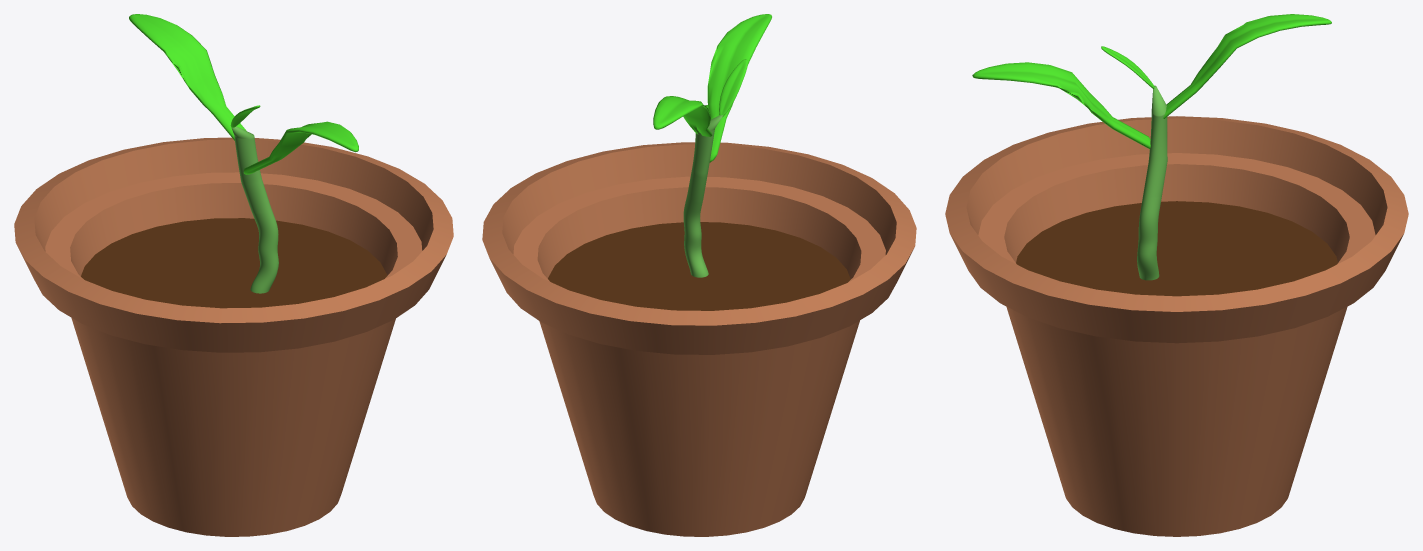
The model's file is youngPlant.fbx.
The picture shows the model from 3 angles, left to right: view 1: azimuth 30°, elevation 25°; view 2: azimuth 150°, elevation 25°; view 3: azimuth 270°, elevation 25°; orthographic projection. The views are drawn at different scales.
Parts seen in each view (by area): view 1: Plant Pot, Plane, Cylinder.001, Plane.001; view 2: Plant Pot, Plane.001, Cylinder.001, Plane, Plane.002; view 3: Plant Pot, Cylinder.001, Plane.001, Plane.
Boxes of the visible parts, x1,y1,x2,y2 form: Plant Pot: (14, 137, 453, 536); Plane: (129, 14, 246, 140); Cylinder.001: (230, 125, 278, 293); Plane.001: (243, 121, 358, 174); Plant Pot: (482, 142, 916, 536); Plane.001: (707, 14, 771, 162); Cylinder.001: (683, 115, 723, 277); Plane: (653, 96, 712, 136); Plane.002: (719, 59, 747, 116); Plant Pot: (945, 116, 1408, 536); Cylinder.001: (1137, 85, 1167, 280); Plane.001: (972, 62, 1150, 149); Plane: (1163, 14, 1331, 118).
Size of the model in its own units: 535 by 588 by 535.
